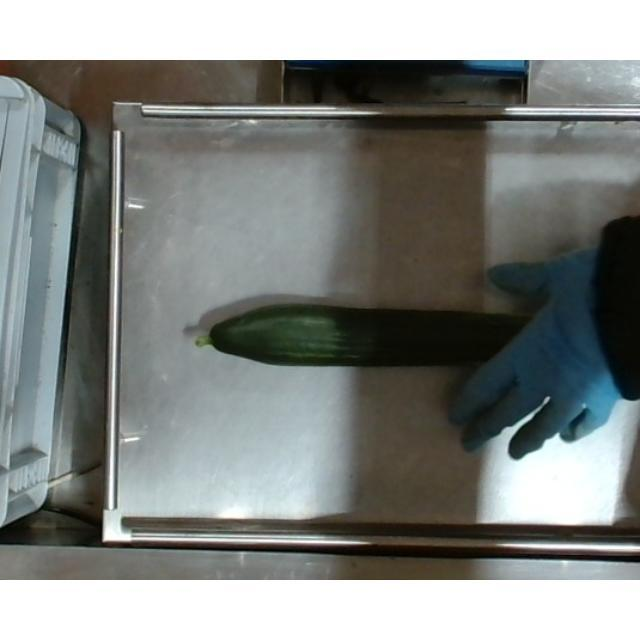cucumber: (190, 294, 640, 382)
